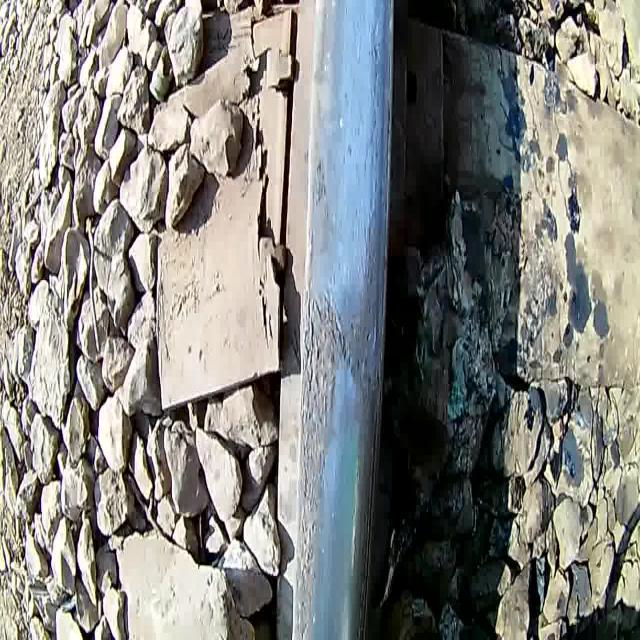Flakings: (288, 275, 343, 640)
Squats: (342, 285, 388, 403)
